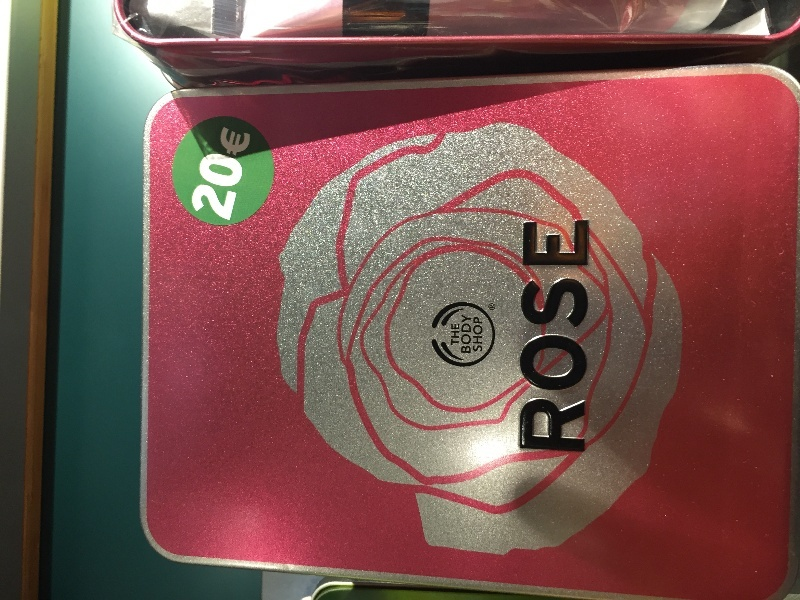text: (529, 219, 544, 453), (545, 219, 560, 453), (561, 219, 576, 453), (577, 219, 589, 453), (225, 125, 240, 226), (241, 125, 253, 226), (523, 219, 528, 453), (214, 125, 224, 226), (451, 324, 464, 346), (465, 314, 472, 353), (473, 317, 480, 352), (461, 314, 464, 353), (481, 317, 483, 352), (489, 305, 496, 309)
